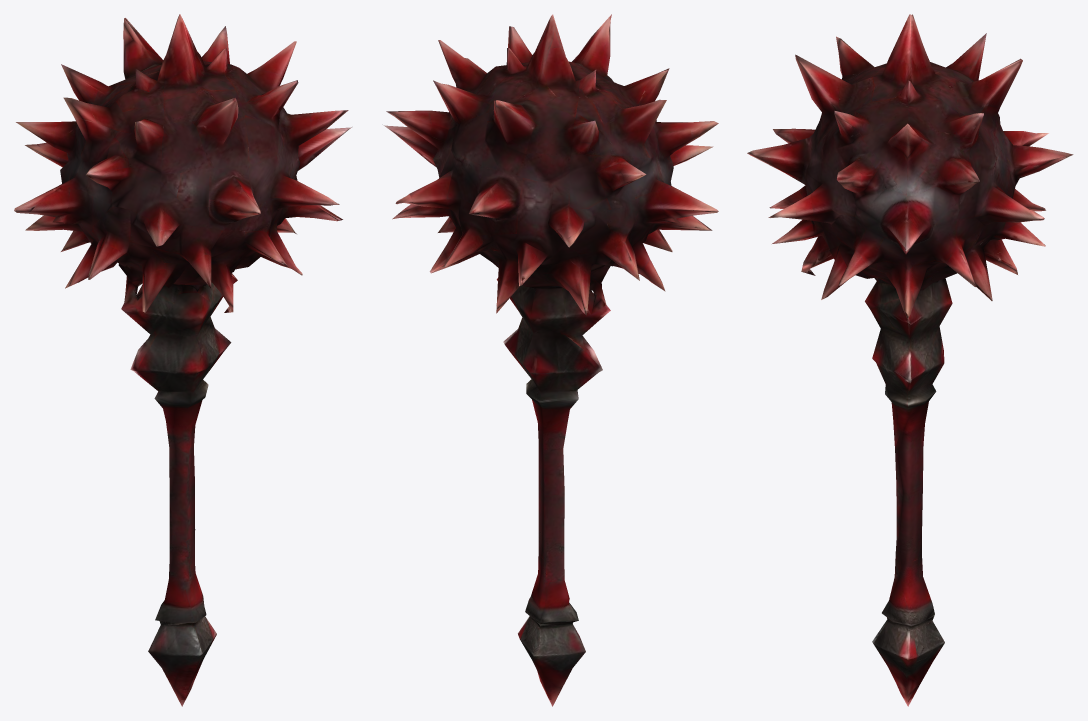
File: 1468_mace.glb
3 views of the same model, side by side, from view 1: azimuth 30°, elevation 25°; view 2: azimuth 150°, elevation 25°; view 3: azimuth 270°, elevation 25° (orthographic).
Parts seen in each view (by area): view 1: Model; view 2: Model; view 3: Model.
Part boxes in pixels (x1,y1,x2,y2): Model: (14,14,351,706); Model: (384,14,718,706); Model: (747,14,1073,706).
Size of the model in its own units: 0.511 by 1 by 0.4278.
1 material, 1 textured.
